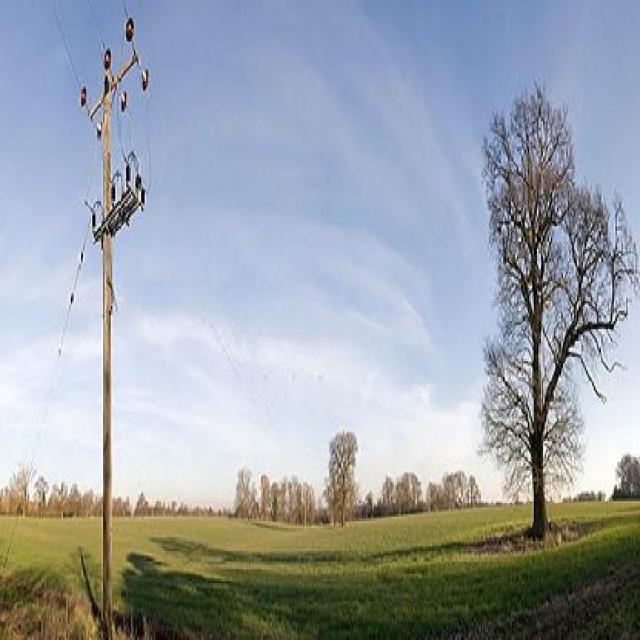pole: (66, 9, 160, 626)
